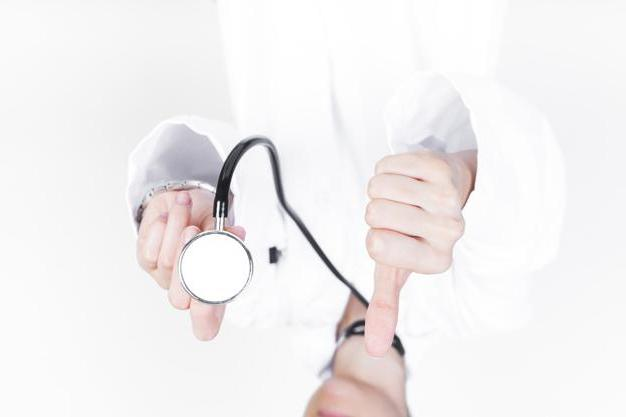thumbsdown: (364, 150, 466, 359)
